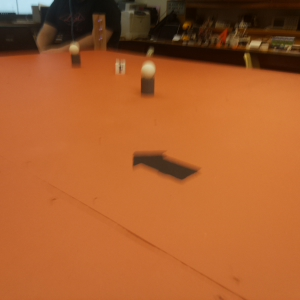blockF: (115, 60, 127, 75)
corner: (92, 13, 105, 49)
obstacle: (139, 60, 158, 95), (70, 42, 80, 67)
start: (133, 148, 199, 186)
